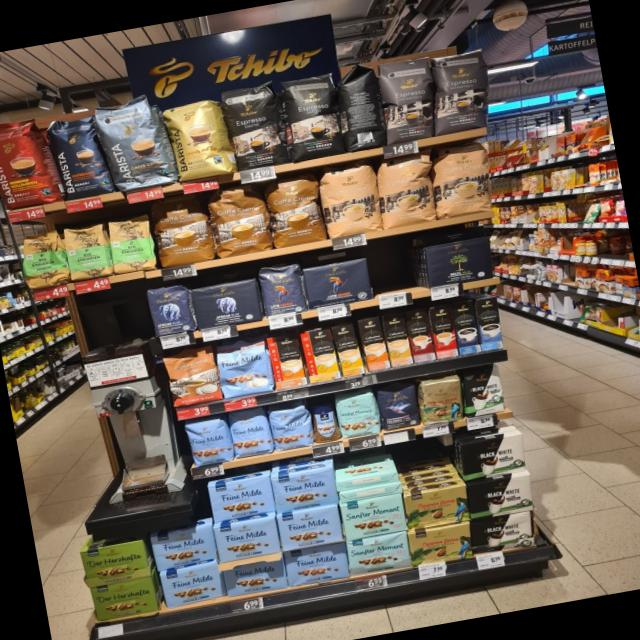AB Bohne: (143, 282, 197, 338)
AB Gemahlen: (190, 276, 263, 331)
Athiopien Bohne: (19, 230, 70, 290)
Athiopien Gemahlen: (103, 214, 158, 275), (60, 222, 113, 282)
BM Gemahlen: (423, 234, 494, 288)
BW Bohne: (458, 364, 508, 418)
BW Gemahlen: (456, 431, 530, 482), (466, 470, 538, 520), (471, 508, 538, 555)
Barista CB: (159, 95, 236, 183)
Barista CC: (90, 91, 178, 194)
Barista Espresso: (43, 110, 113, 202)
Barista Kolumbien: (0, 110, 59, 211)
C Fino Bohne: (374, 382, 422, 432)
CC Mild: (316, 160, 384, 241), (430, 139, 498, 219), (373, 149, 438, 229)
CC Vollmundig: (160, 343, 223, 409)
CC Vollmundig 36 Pads: (147, 190, 216, 268), (206, 181, 274, 259), (262, 172, 326, 250)
Colombia BB Bohne: (418, 372, 468, 426)
Colombia BB Gemahlen: (408, 520, 477, 570), (402, 482, 472, 531)
Espresso Aromatisch: (375, 53, 443, 144), (429, 46, 497, 134)
Espresso Kraftig: (218, 80, 288, 172), (276, 70, 346, 162)
FM 36 Pads: (214, 336, 274, 400)
FM Bohne: (180, 412, 234, 468), (265, 399, 315, 453), (225, 406, 274, 460)
FM Gemahlen: (212, 514, 282, 564), (205, 472, 275, 522), (276, 502, 344, 552), (158, 560, 226, 608), (270, 465, 339, 512), (281, 540, 351, 586), (150, 524, 218, 571), (221, 552, 288, 598)
FM Instant: (306, 398, 343, 444)
Herzhatfe Mundig: (78, 539, 151, 588), (89, 574, 160, 622)
LG Bohne: (256, 258, 307, 318)
LG Gemahlen: (302, 258, 374, 310)
SM Bohne: (333, 386, 383, 441)
SM Gemahlen: (343, 528, 413, 580), (338, 492, 408, 542)
Simo CCMild bigpack: (300, 326, 340, 384), (331, 321, 364, 378)
Simo CCVollmundig: (266, 331, 306, 389)
Simo CCVollmundig bigpack: (359, 316, 390, 372)
Simo Decaff: (382, 311, 412, 367)
Simo Es Brazil: (428, 304, 460, 359)
Simo Es Caramel: (405, 306, 435, 362)
Simo Es Kraft: (451, 298, 482, 356)
Simo Es Vanilla: (474, 295, 506, 351)
